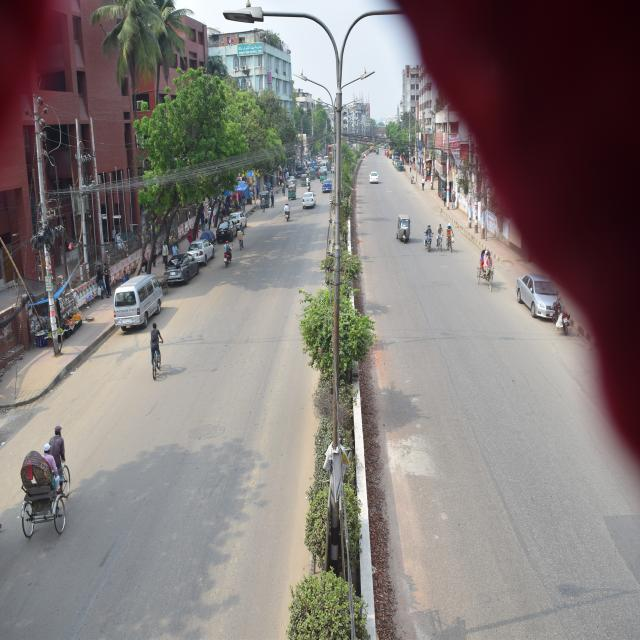car: (513, 265, 566, 330), (164, 250, 202, 290), (184, 231, 218, 273), (225, 204, 249, 231), (213, 216, 236, 243), (302, 186, 316, 213), (367, 164, 380, 183), (322, 176, 333, 194)
microbus: (108, 261, 168, 342)
motorbike: (218, 242, 234, 269), (281, 202, 293, 223), (426, 228, 434, 257)
